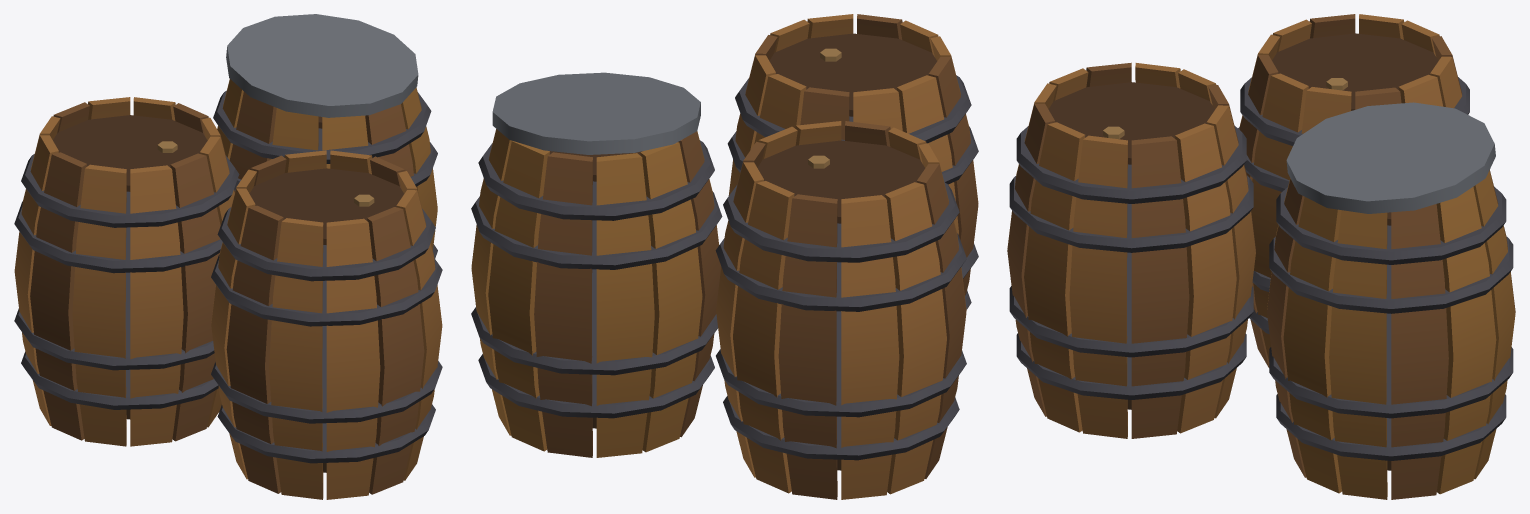
The model's file is barrels_block.glb.
The picture shows the model from 3 angles, left to right: view 1: azimuth 30°, elevation 25°; view 2: azimuth 150°, elevation 25°; view 3: azimuth 270°, elevation 25°; orthographic projection. The views are drawn at different scales.
Parts seen in each view (by area): view 1: barrels; view 2: barrels; view 3: barrels.
Boxes of the visible parts, left/top/right/bottom form: barrels: left=14, top=14, right=442, bottom=499; barrels: left=471, top=14, right=978, bottom=499; barrels: left=1007, top=14, right=1515, bottom=499.
Bounding box in the file's own units: 1.41 × 0.9696 × 1.41.
